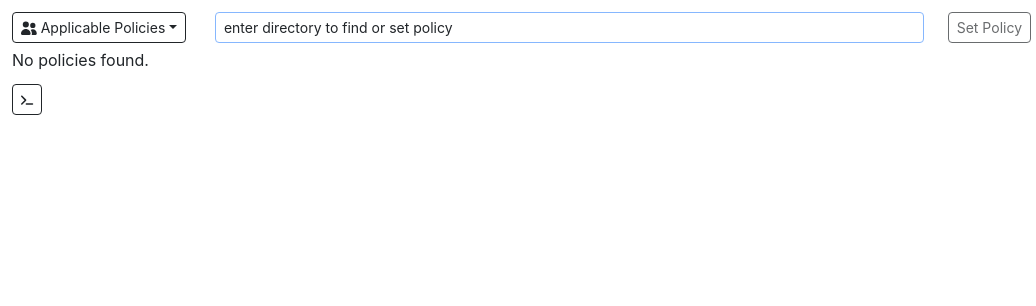
Test: Policies component - no policies state › shows specific message for local policies with path
Check: the field with placeholder "enter directory to find or set policy" is shown, box [215,12,924,43]
// Switch to Local Path Policies
Click the button "Applicable Policies" at [99, 28], box [12,12,186,43]
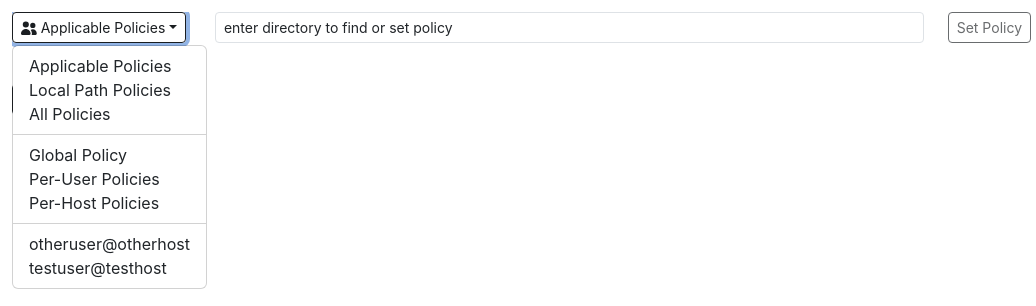
Click the button "Local Path Policies" at [100, 90], box [29,80,171,100]
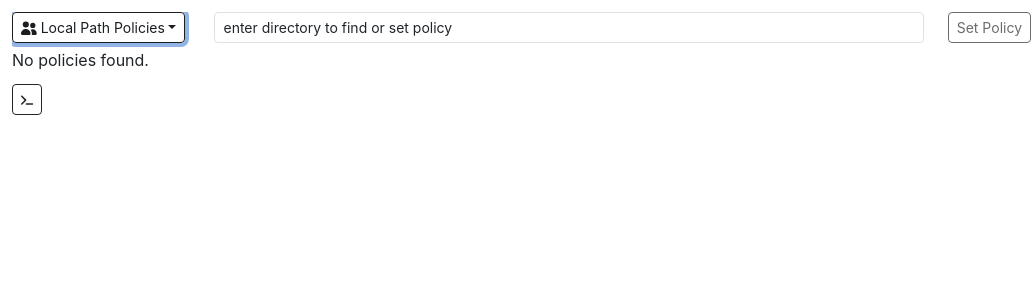
// Enter a path
Type "/some/path" into the field with placeholder "enter directory to find or set policy" at [569, 28], box [214,12,924,43]
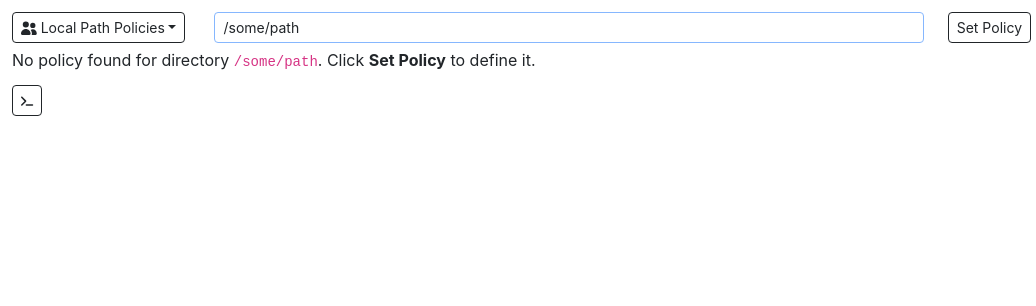
Check: the button "Set Policy" is shown, box [948,12,1031,43]
Check: the text "No policy found for directory" is shown, box [12,50,234,70]
